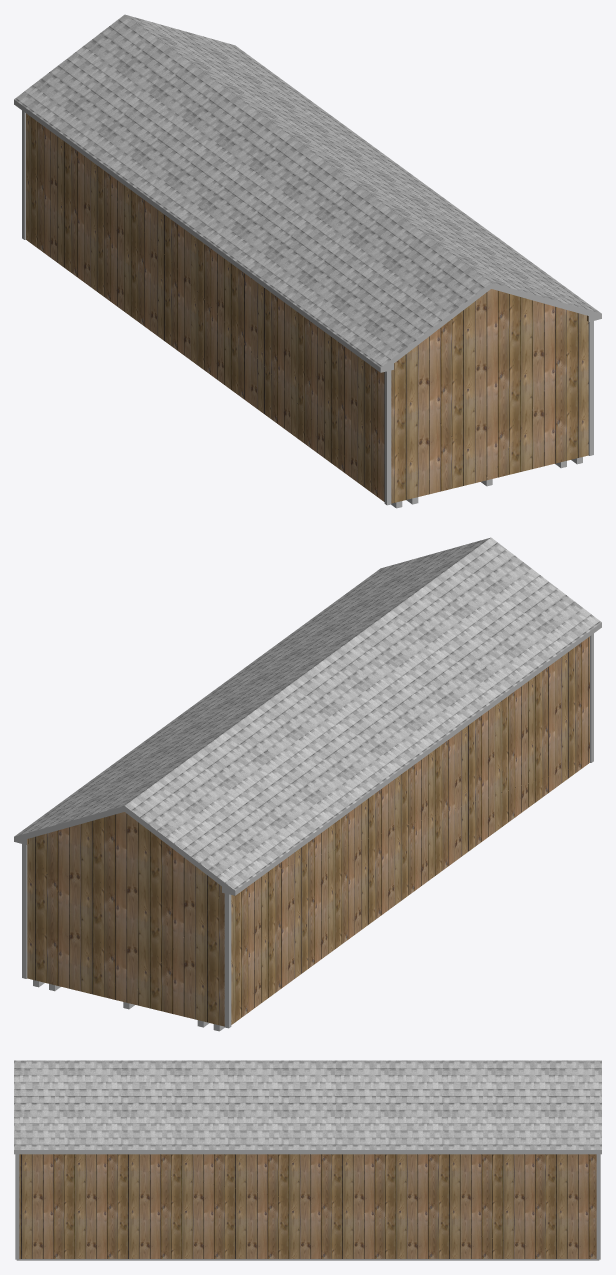
The model's file is Single Garage A-frame_12x36.obj.
3 views of the same model, one above another, from view 1: azimuth 30°, elevation 25°; view 2: azimuth 150°, elevation 25°; view 3: azimuth 270°, elevation 25° (orthographic). The views are drawn at different scales.
Parts seen in each view (by area): view 1: Roof, Shed, Sides, Trim; view 2: Roof, Shed, Sides, Trim; view 3: Shed, Roof, Sides, Floor, Trim.
Part boxes in pixels (x1=…): Roof: x1=14, y1=14, x2=601, y2=367; Shed: x1=26, y1=113, x2=588, y2=503; Sides: x1=14, y1=99, x2=601, y2=372; Trim: x1=22, y1=110, x2=593, y2=505; Roof: x1=14, y1=537, x2=601, y2=890; Shed: x1=27, y1=636, x2=589, y2=1026; Sides: x1=14, y1=622, x2=601, y2=895; Trim: x1=22, y1=633, x2=593, y2=1028; Shed: x1=19, y1=1154, x2=596, y2=1258; Roof: x1=14, y1=1060, x2=601, y2=1149; Sides: x1=14, y1=1150, x2=601, y2=1154; Floor: x1=16, y1=1259, x2=599, y2=1260; Trim: x1=15, y1=1154, x2=600, y2=1259.
Bounding box in the file's own units: 3.86 × 3.4 × 11.07.
